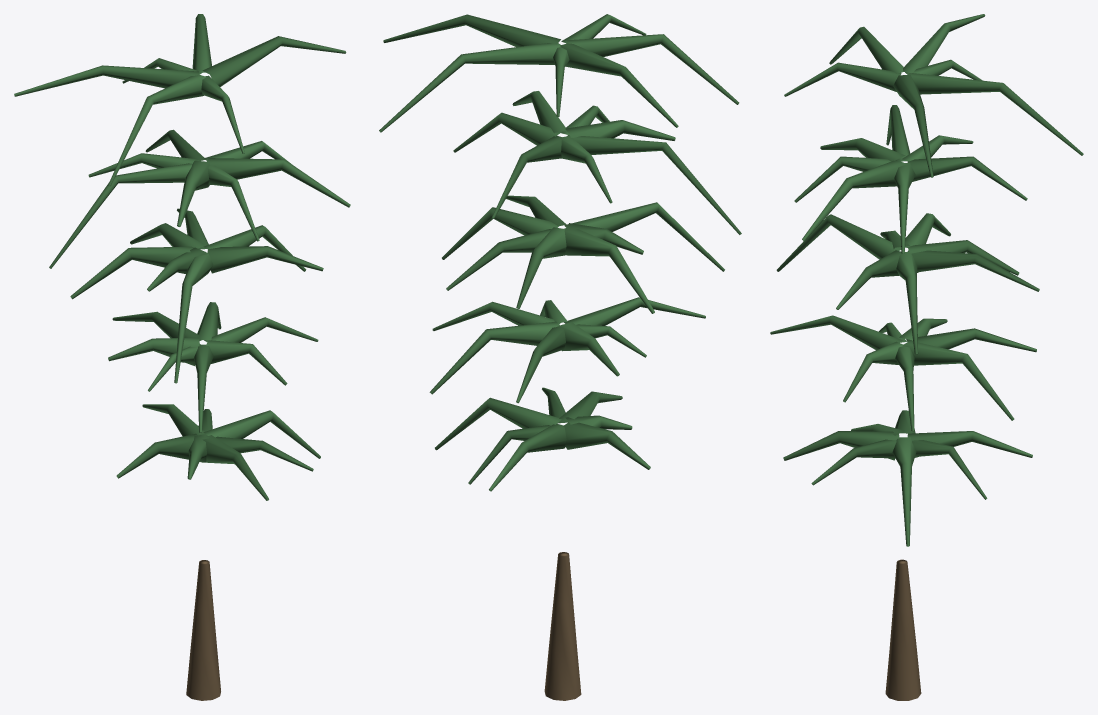
File: field_spruce_b_lod1.glb
3 renders of one model, left to right at view 1: azimuth 30°, elevation 25°; view 2: azimuth 150°, elevation 25°; view 3: azimuth 270°, elevation 25°, orthographic. The views are drawn at different scales.
Visible parts, largest first — view 1: foliage, bark; view 2: foliage, bark; view 3: foliage, bark.
Boxes of the visible parts, x1,y1,x2,y2 form: foliage: (14,14,350,500); bark: (186,560,220,700); foliage: (379,14,741,491); bark: (544,552,581,700); foliage: (770,14,1083,546); bark: (885,559,921,700).
Bounding box in the file's own units: 3.29 × 6.24 × 2.8.
